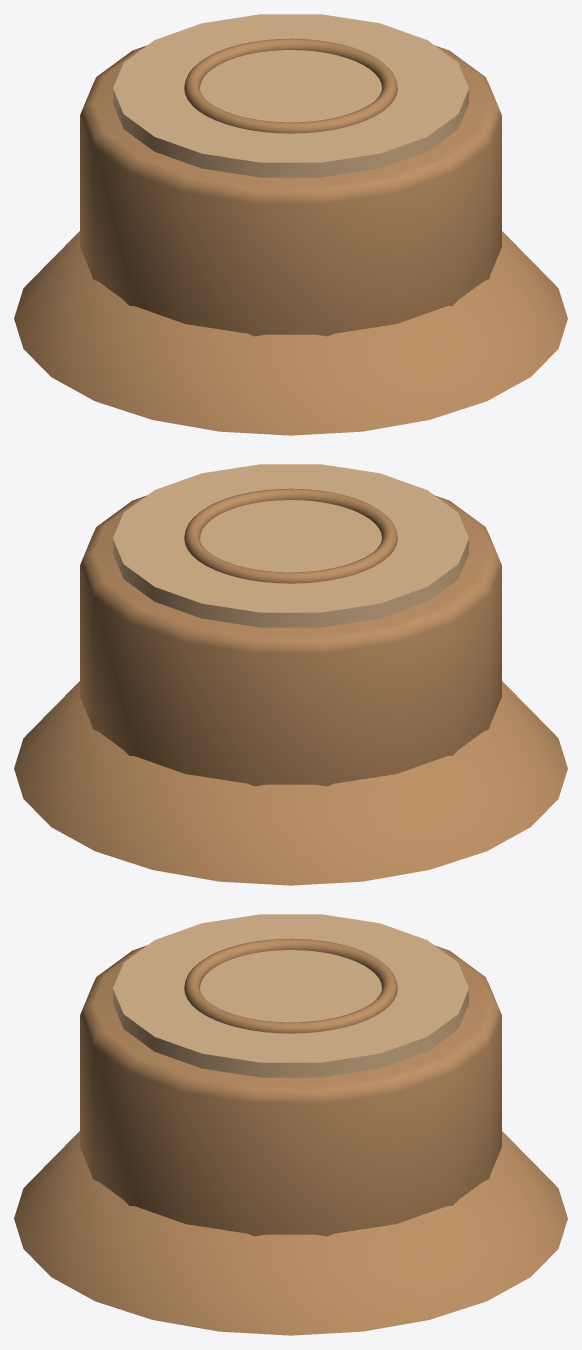
Rendered from tree_stump.glb.
3 renders of one model, top to bottom at view 1: azimuth 30°, elevation 25°; view 2: azimuth 150°, elevation 25°; view 3: azimuth 270°, elevation 25°, orthographic.
Visible parts, largest first — view 1: tree_stump; view 2: tree_stump; view 3: tree_stump.
Boxes of the visible parts, bbox=[...] form: tree_stump: bbox=[14, 14, 567, 435]; tree_stump: bbox=[14, 464, 567, 885]; tree_stump: bbox=[14, 914, 567, 1335].
Size of the model in its own units: 0.84 by 0.397 by 0.84.
